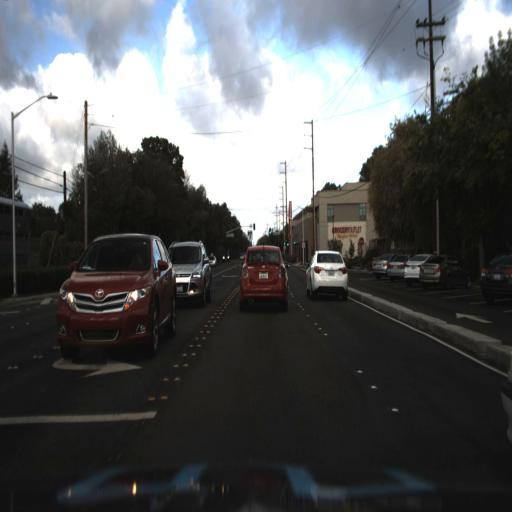car: (50, 224, 185, 369), (229, 234, 298, 317), (303, 241, 353, 298), (175, 235, 211, 311), (479, 249, 512, 306), (418, 250, 457, 287), (401, 253, 418, 289), (371, 249, 387, 282), (386, 251, 403, 282)
